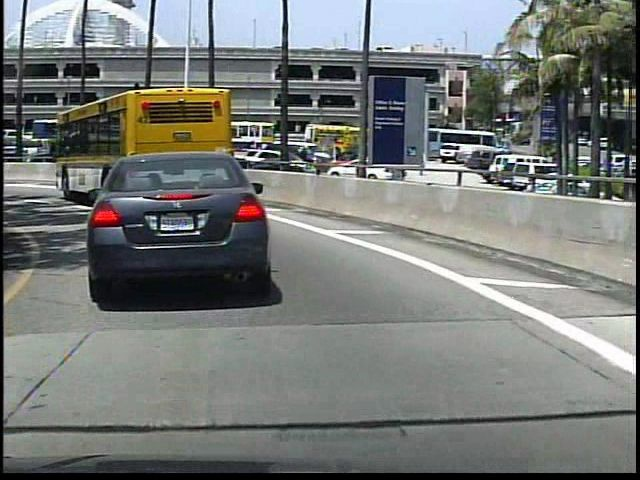person: (297, 145, 311, 175)
